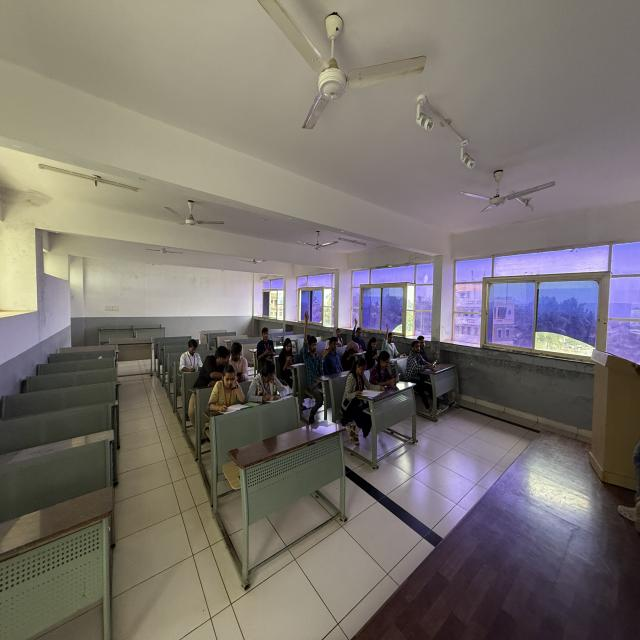Hand Rising: (302, 305, 326, 406), (382, 319, 404, 361), (351, 315, 366, 349)
Reading: (345, 355, 380, 412)
Using Phone: (408, 340, 438, 387), (373, 352, 405, 394), (277, 337, 299, 381), (256, 326, 277, 363)
Writing: (216, 363, 250, 422)
